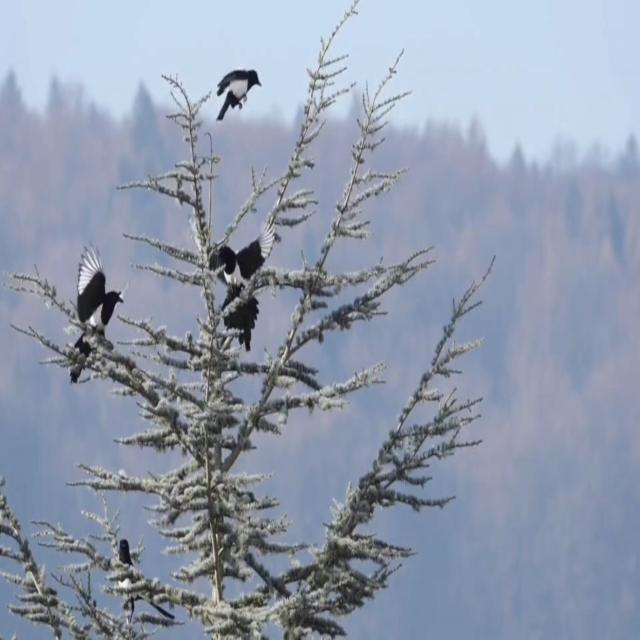bird: (52, 233, 130, 387), (197, 214, 272, 356), (214, 286, 284, 368), (106, 516, 149, 629), (212, 59, 264, 130)
